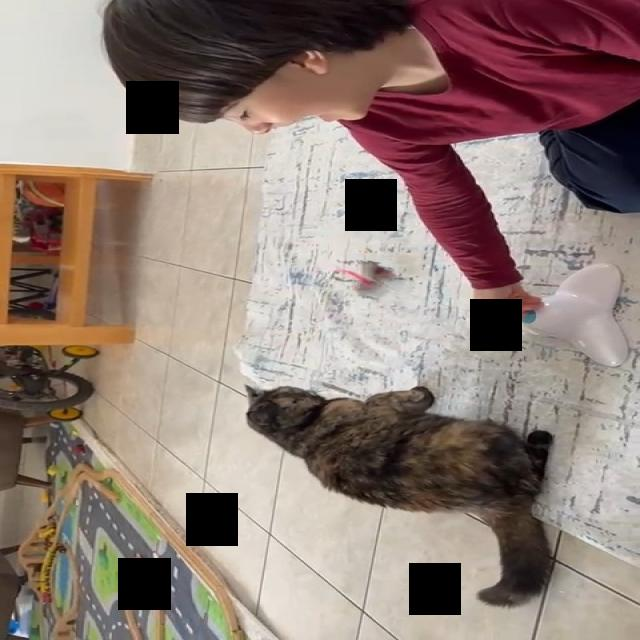authorized: (242, 382, 554, 608)
